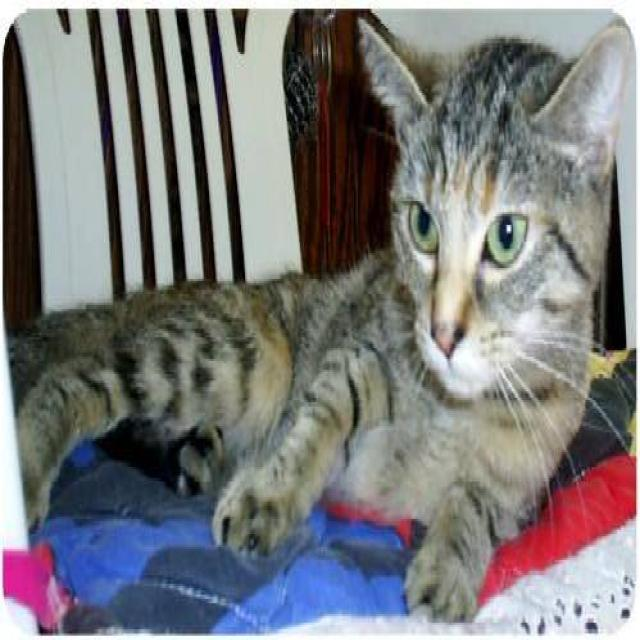cat: (6, 9, 631, 622)
